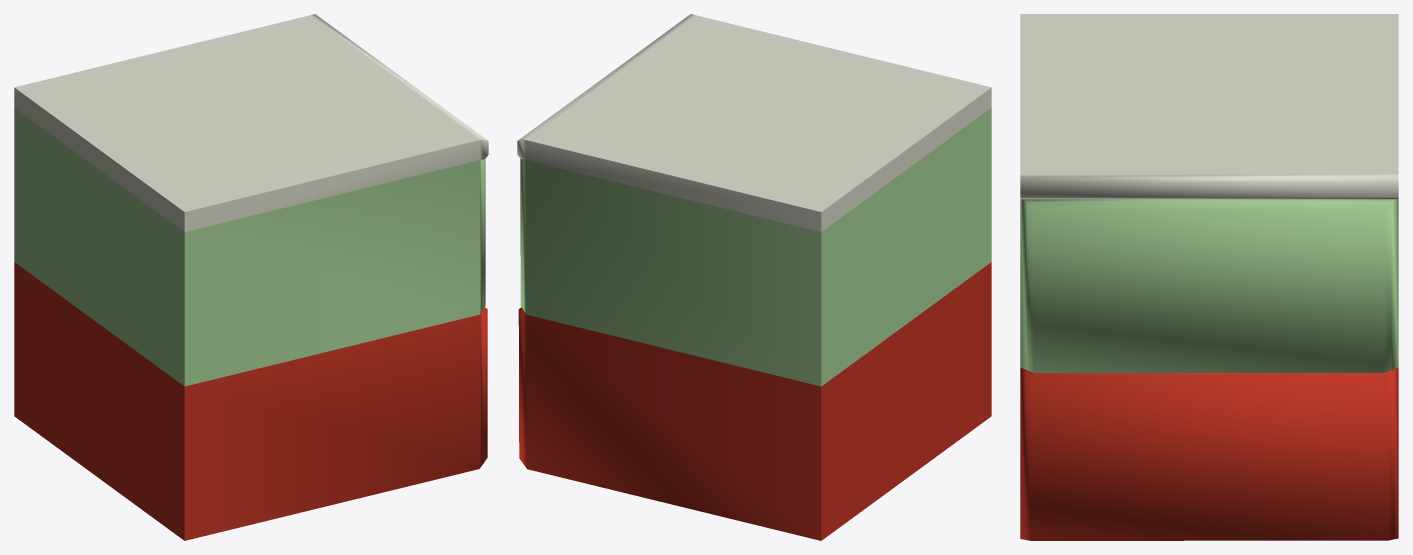
The model's file is stoltshnitsa_niz.fbx.
3 views of the same model, side by side, from view 1: azimuth 30°, elevation 25°; view 2: azimuth 150°, elevation 25°; view 3: azimuth 270°, elevation 25° (orthographic). The views are drawn at different scales.
Parts seen in each view (by area): view 1: СТОЛЕШНИЦА.2; view 2: СТОЛЕШНИЦА.2; view 3: СТОЛЕШНИЦА.2.
Part boxes in pixels (<box>): СТОЛЕШНИЦА.2: <box>14,14,488,540</box>; СТОЛЕШНИЦА.2: <box>517,14,991,540</box>; СТОЛЕШНИЦА.2: <box>1020,14,1398,540</box>.
Size of the model in its own units: 209 by 213 by 200.
